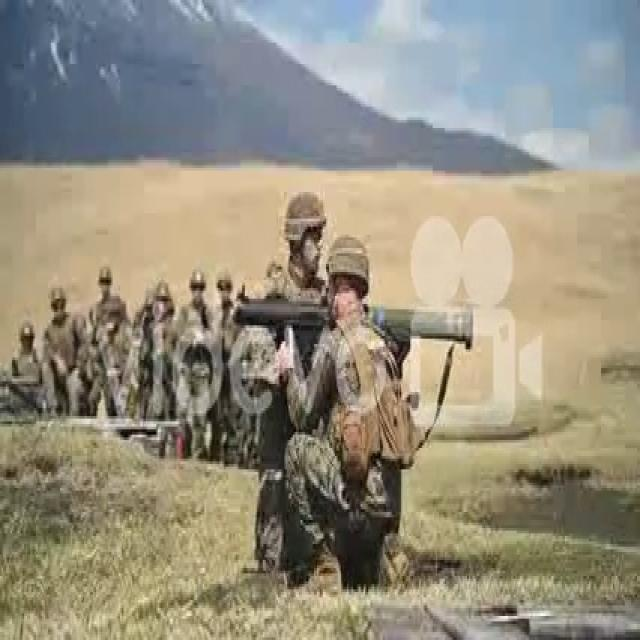bazooka: (229, 283, 478, 360)
